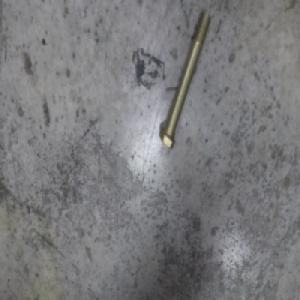Bolt: (160, 16, 209, 147)
